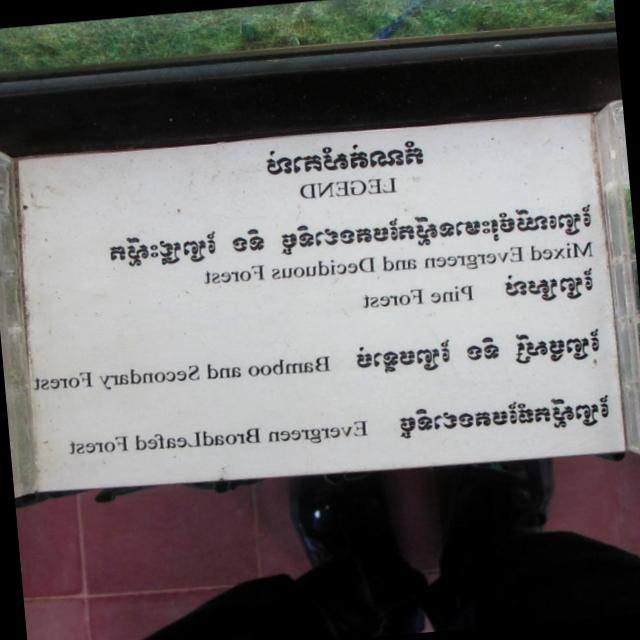2: (105, 199, 596, 273), (351, 319, 609, 377)
Yolov11kh: (392, 389, 613, 446), (262, 126, 426, 178), (495, 262, 600, 304)
